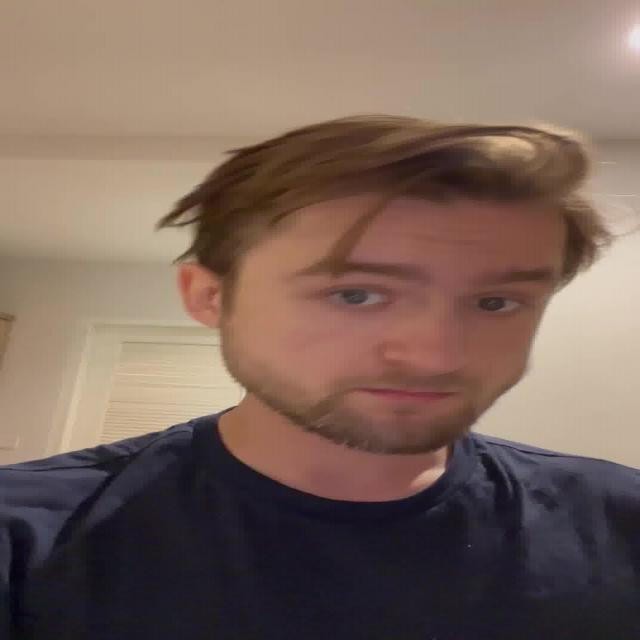earlobe: (174, 262, 222, 329)
